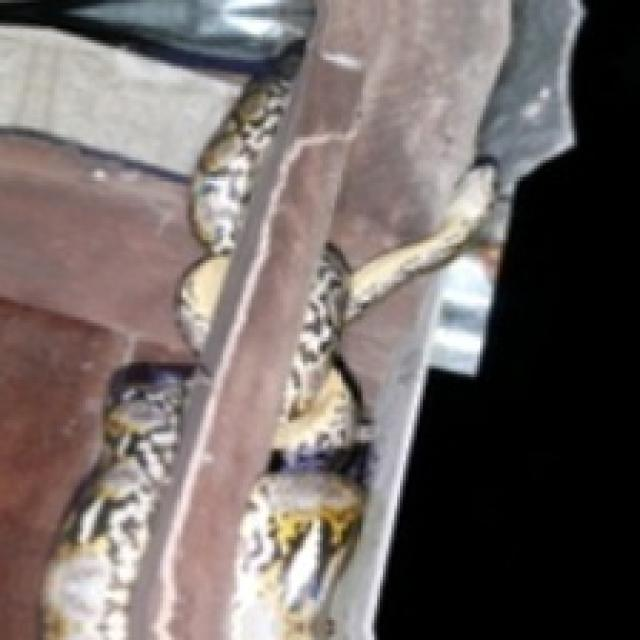reticulated python: (231, 165, 496, 639), (43, 363, 197, 637), (174, 77, 291, 357)
